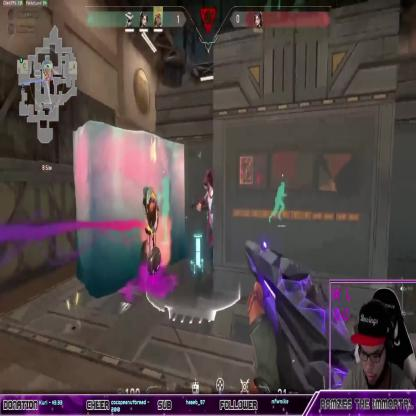enemy: (198, 170, 218, 270)
enemy_head: (204, 172, 212, 188)
